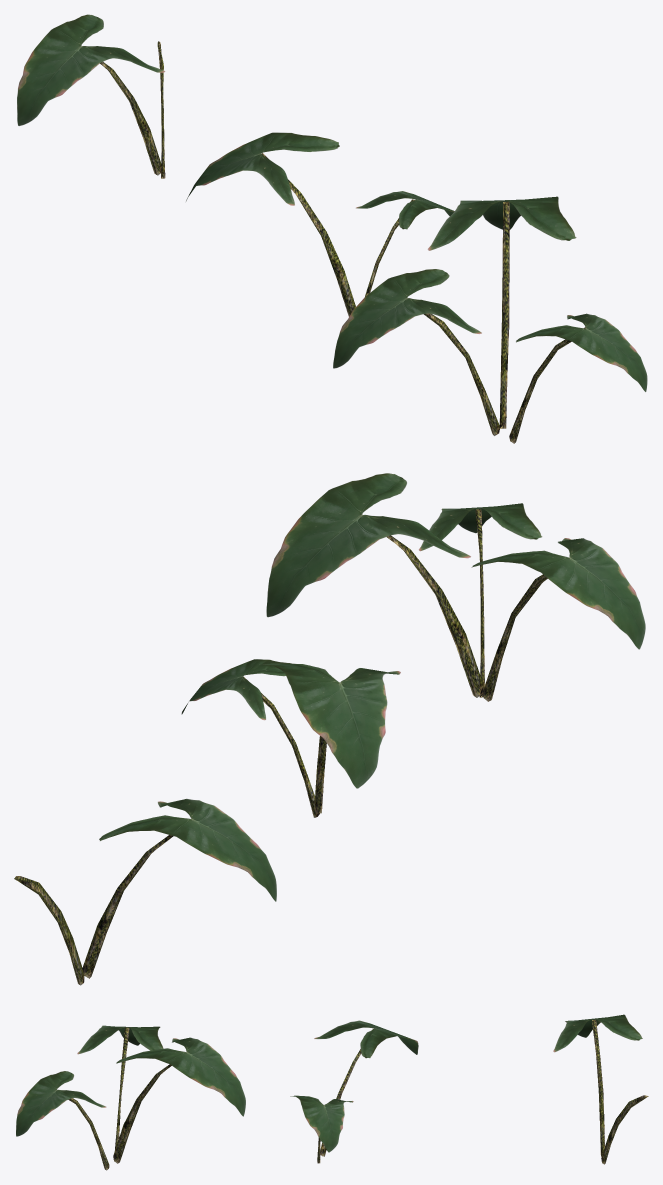
Rendered from wild_plant.glb.
3 renders of one model, top to bottom at view 1: azimuth 30°, elevation 25°; view 2: azimuth 150°, elevation 25°; view 3: azimuth 270°, elevation 25°, orthographic. The views are drawn at different scales.
Parts seen in each view (by area): view 1: Object_2; view 2: Object_2; view 3: Object_2.
Boxes of the visible parts, left/top/right/bottom form: Object_2: left=17, top=14, right=647, bottom=443; Object_2: left=14, top=473, right=645, bottom=985; Object_2: left=16, top=1014, right=648, bottom=1170.
Bounding box in the file's own units: 3.44 × 2.42 × 10.05.
1 material, 1 textured.
